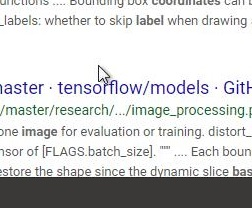cursor: (97, 63, 111, 84)
